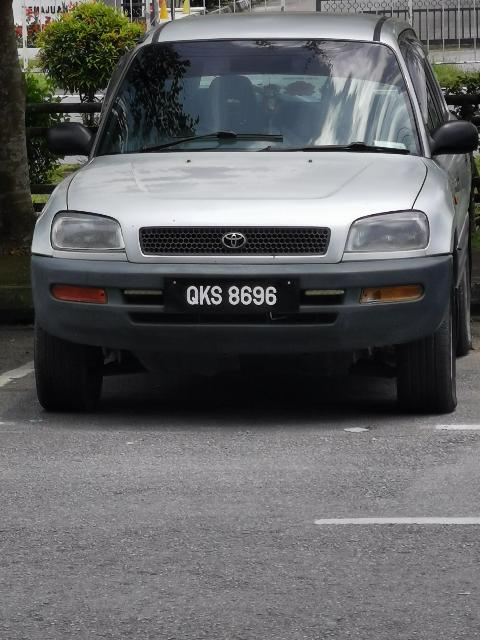License_Plate: (166, 280, 301, 315)
car: (31, 8, 466, 406)
